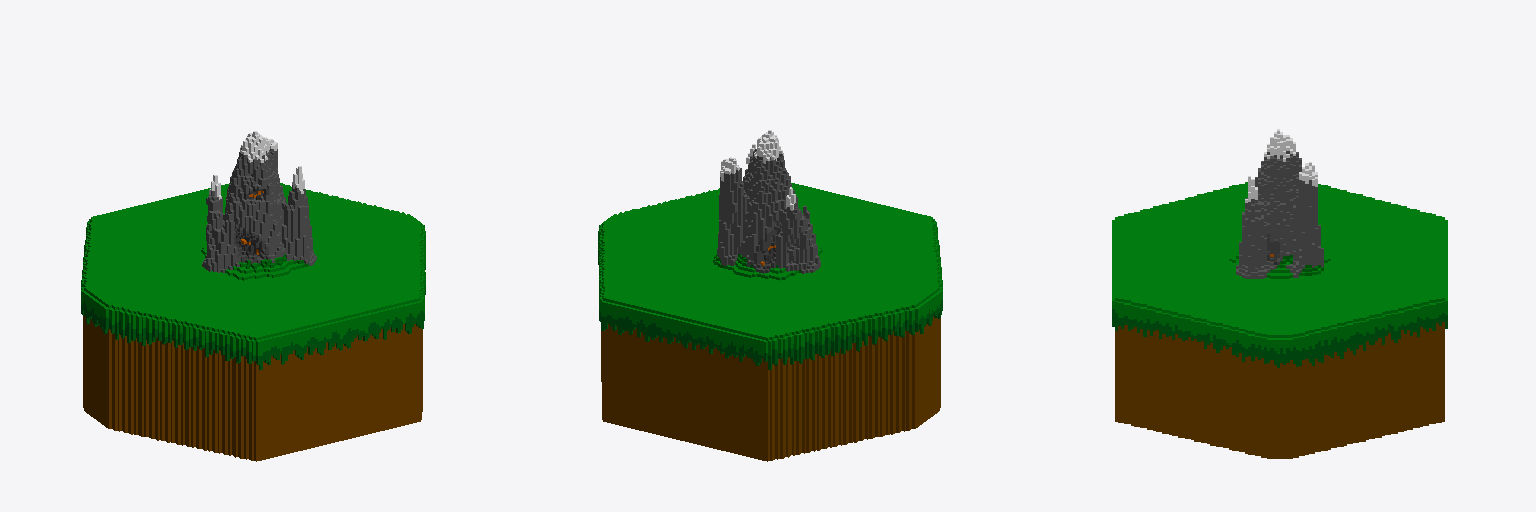
The picture shows the model from 3 angles: view 1: azimuth 30°, elevation 25°; view 2: azimuth 150°, elevation 25°; view 3: azimuth 270°, elevation 25°; orthographic projection.
Visible parts, largest first — view 1: object 1; view 2: object 1; view 3: object 1.
Part boxes in pixels (x1,y1,x2,y2): object 1: (81,131,425,461); object 1: (598,130,942,461); object 1: (1112,129,1447,458).
Bounding box in the file's own units: 11.8 × 8.7 × 10.6.
1 materials, 1 textured.